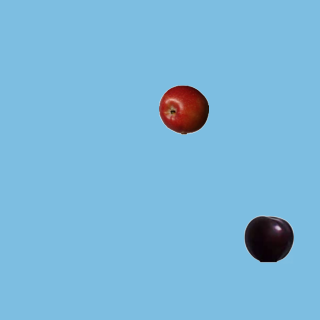Apple Braeburn: (158, 84, 208, 134)
Cherry Wax Black: (243, 213, 293, 263)
